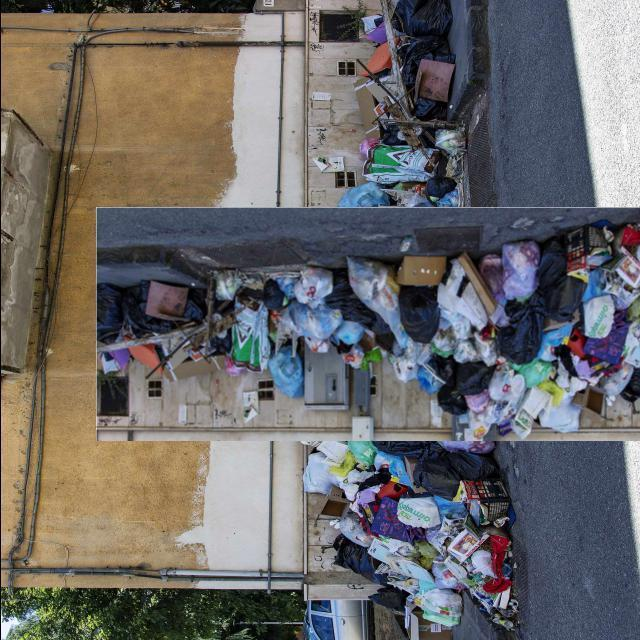Trashbag: (398, 40, 460, 116), (412, 444, 492, 496), (132, 280, 200, 336), (502, 298, 550, 362), (399, 281, 444, 346), (330, 531, 380, 583), (329, 272, 376, 327), (91, 284, 127, 349), (531, 242, 567, 304), (392, 1, 451, 34), (451, 358, 494, 392), (437, 383, 467, 414), (261, 278, 288, 311), (427, 170, 458, 197)
